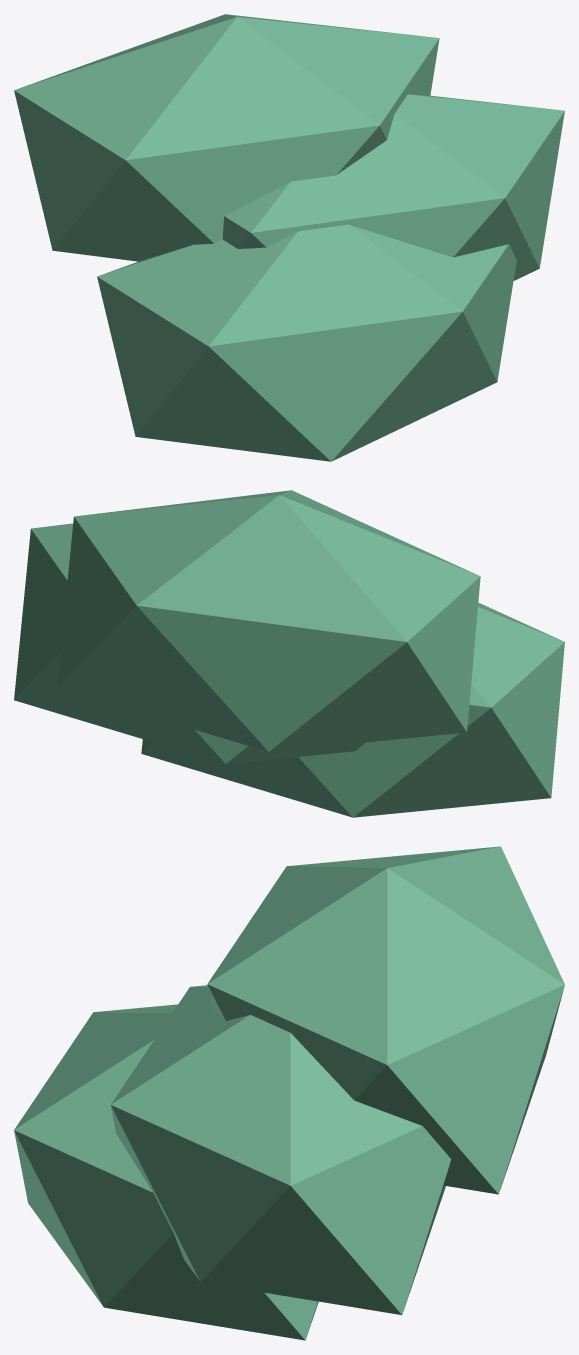
Rendered from item_073_copper_ore_m.glb.
3 views of the same model, one above another, from view 1: azimuth 30°, elevation 25°; view 2: azimuth 150°, elevation 25°; view 3: azimuth 270°, elevation 25° (orthographic). The views are drawn at different scales.
Visible parts, largest first — view 1: item_073_copper_ore_m; view 2: item_073_copper_ore_m; view 3: item_073_copper_ore_m.
Boxes of the visible parts, x1,y1,x2,y2 form: item_073_copper_ore_m: (14,14,564,461); item_073_copper_ore_m: (14,490,564,817); item_073_copper_ore_m: (14,846,564,1340).
Size of the model in its own units: 0.3931 by 0.2955 by 0.3421.
